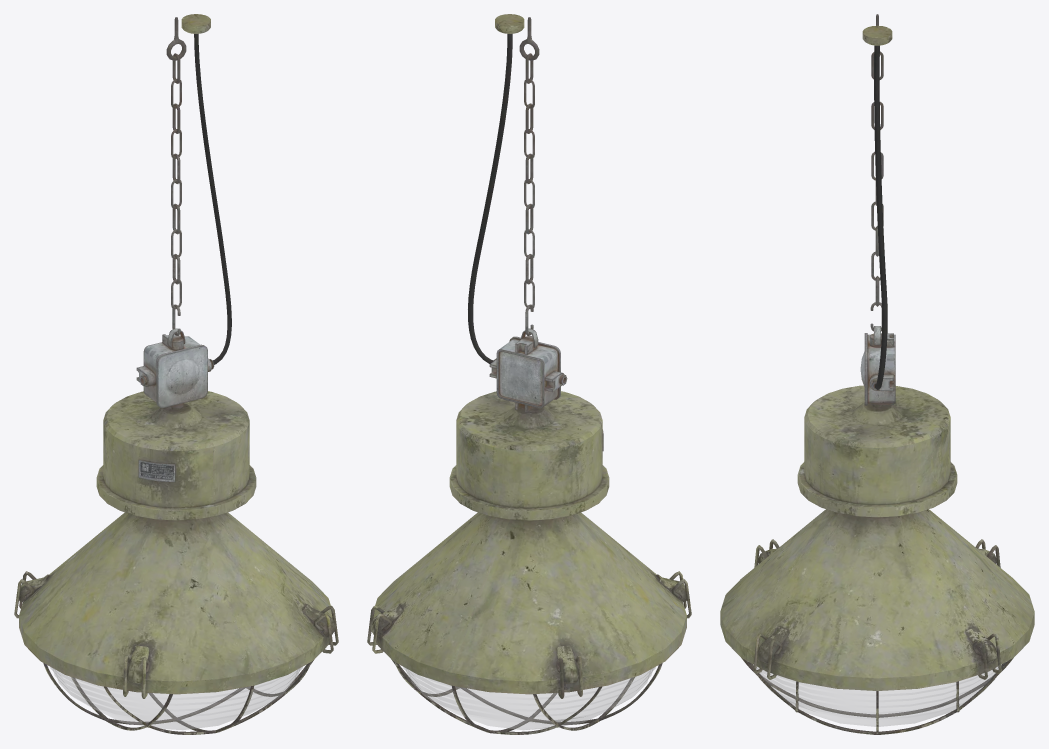
File: hanging_industrial_lamp.glb
The picture shows the model from 3 angles, left to right: view 1: azimuth 30°, elevation 25°; view 2: azimuth 150°, elevation 25°; view 3: azimuth 270°, elevation 25°; orthographic projection.
Parts seen in each view (by area): view 1: hanging_industrial_lamp; view 2: hanging_industrial_lamp; view 3: hanging_industrial_lamp.
Part boxes in pixels (box(x1,y1,x2,y2)): hanging_industrial_lamp: box(14, 14, 338, 734); hanging_industrial_lamp: box(367, 14, 691, 734); hanging_industrial_lamp: box(720, 14, 1034, 734).
Size of the model in its own units: 0.5497 by 1.36 by 0.5497.
Materials: 2 (1 with a texture image).
